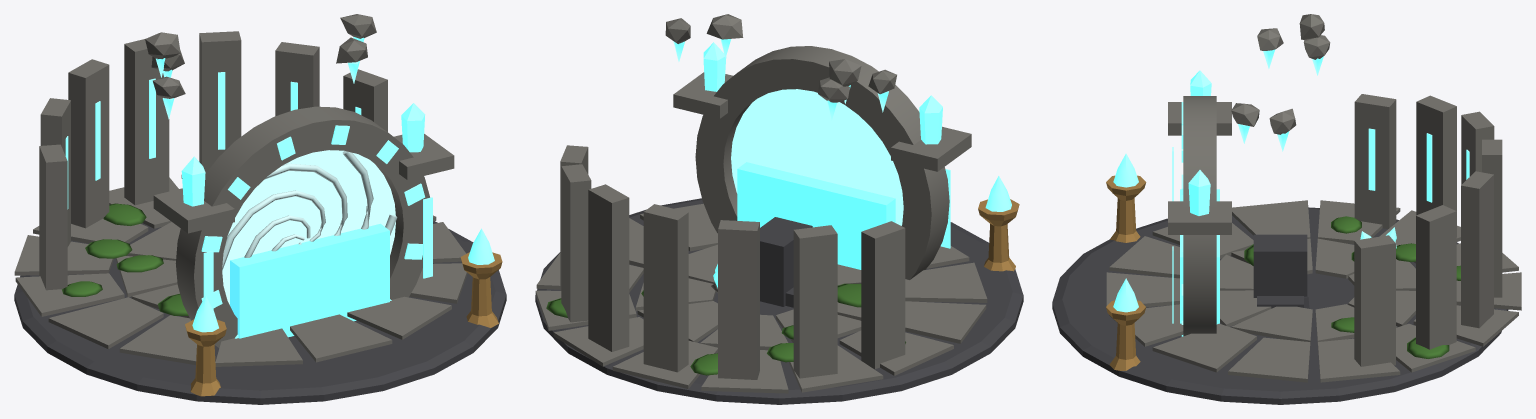
Rendered from RunePortalFurnace_Roblox.fbx.
3 renders of one model, left to right at view 1: azimuth 30°, elevation 25°; view 2: azimuth 150°, elevation 25°; view 3: azimuth 270°, elevation 25°, orthographic. The views are drawn at different scales.
Visible parts, largest first — view 1: AncientStone, DarkStone, BurnZone, PortalSwirl, RuneGlow, OldBronze, PortalArms, Moss, RuneCrystal; view 2: AncientStone, DarkStone, PortalSwirl, BurnZone, RuneCrystal, Moss, OldBronze, RuneGlow; view 3: AncientStone, DarkStone, RuneGlow, OldBronze, Moss, RuneCrystal, BurnZone.
Part boxes in pixels (x1=…): AncientStone: x1=14, y1=14, x2=467, y2=366; DarkStone: x1=14, y1=221, x2=506, y2=404; BurnZone: x1=230, y1=223, x2=389, y2=338; PortalSwirl: x1=222, y1=150, x2=395, y2=304; RuneGlow: x1=65, y1=37, x2=494, y2=338; OldBronze: x1=185, y1=252, x2=502, y2=396; PortalArms: x1=222, y1=151, x2=397, y2=270; Moss: x1=62, y1=203, x2=188, y2=315; RuneCrystal: x1=181, y1=103, x2=425, y2=206; AncientStone: x1=535, y1=14, x2=987, y2=393; DarkStone: x1=535, y1=198, x2=1023, y2=404; PortalSwirl: x1=731, y1=89, x2=903, y2=225; BurnZone: x1=737, y1=162, x2=895, y2=269; RuneCrystal: x1=703, y1=42, x2=942, y2=288; Moss: x1=546, y1=283, x2=905, y2=375; OldBronze: x1=978, y1=199, x2=1019, y2=271; RuneGlow: x1=673, y1=39, x2=1011, y2=248; AncientStone: x1=1106, y1=14, x2=1521, y2=382; DarkStone: x1=1052, y1=207, x2=1508, y2=404; RuneGlow: x1=1113, y1=49, x2=1469, y2=336; OldBronze: x1=1106, y1=175, x2=1146, y2=370; Moss: x1=1244, y1=216, x2=1460, y2=358; RuneCrystal: x1=1188, y1=70, x2=1396, y2=248; BurnZone: x1=1180, y1=189, x2=1219, y2=324.
Size of the model in its own units: 1360 by 1020 by 1398.
